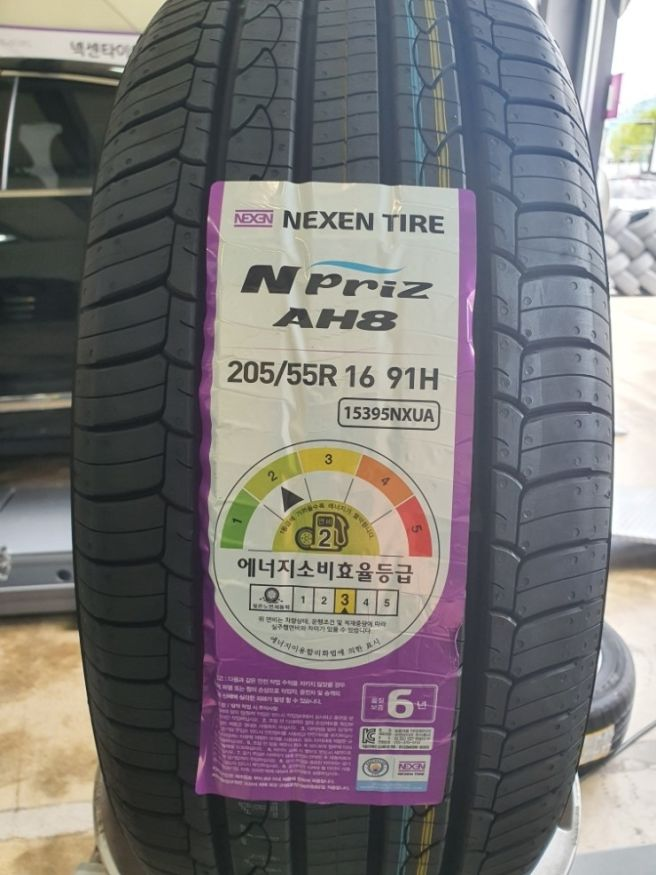new_condition: (80, 5, 613, 875)
